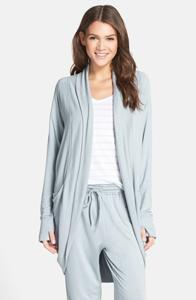S_cardigan sweater: (31, 66, 166, 279)
